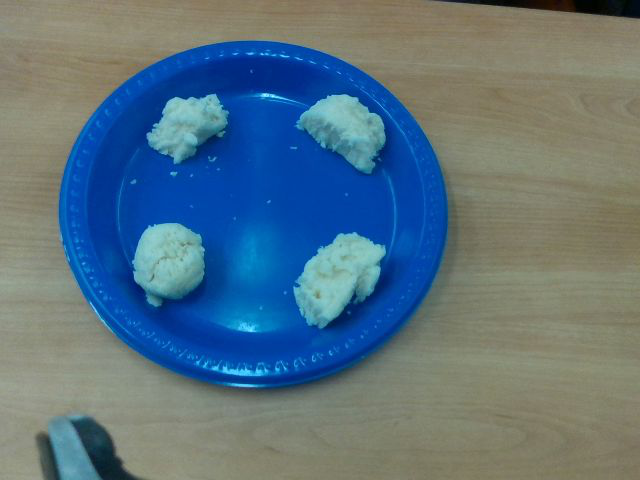mashed_potato: (295, 232, 385, 326), (299, 94, 384, 171), (133, 223, 204, 302), (147, 94, 227, 162)
